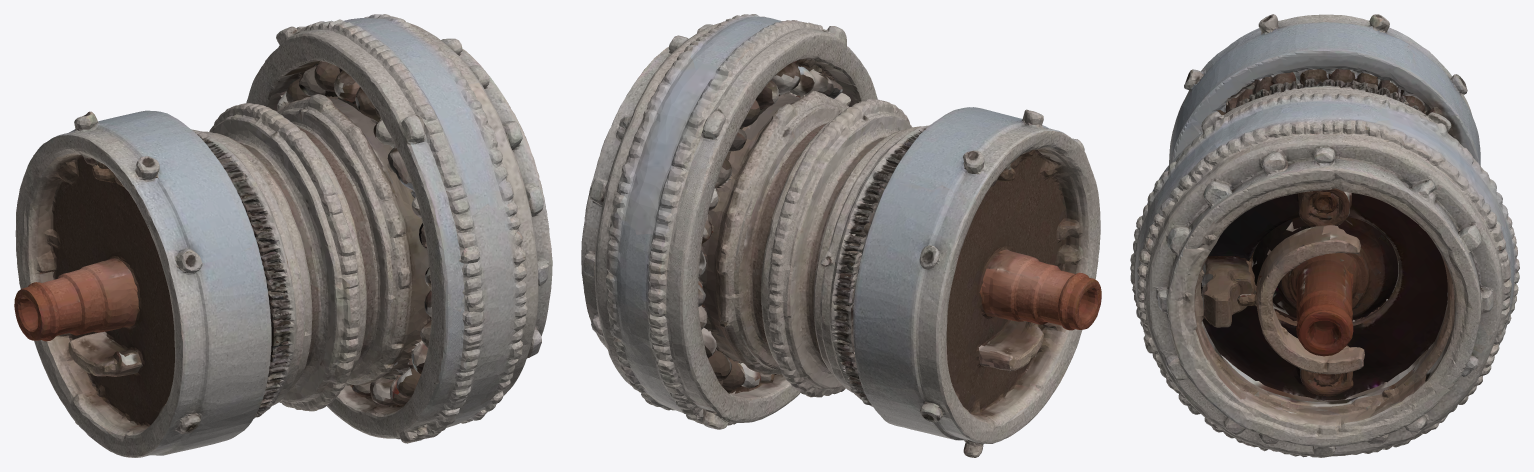
Rendered from wing (18).glb.
3 views of the same model, side by side, from view 1: azimuth 30°, elevation 25°; view 2: azimuth 150°, elevation 25°; view 3: azimuth 270°, elevation 25° (orthographic). The views are drawn at different scales.
Visible parts, largest first — view 1: Hy21_Mesh.obj; view 2: Hy21_Mesh.obj; view 3: Hy21_Mesh.obj.
Part boxes in pixels (x1=…): Hy21_Mesh.obj: x1=14, y1=14, x2=552, y2=457; Hy21_Mesh.obj: x1=581, y1=14, x2=1101, y2=457; Hy21_Mesh.obj: x1=1130, y1=14, x2=1519, y2=457.
Bounding box in the file's own units: 1.96 × 1.46 × 1.49.
Materials: 1 (1 with a texture image).
